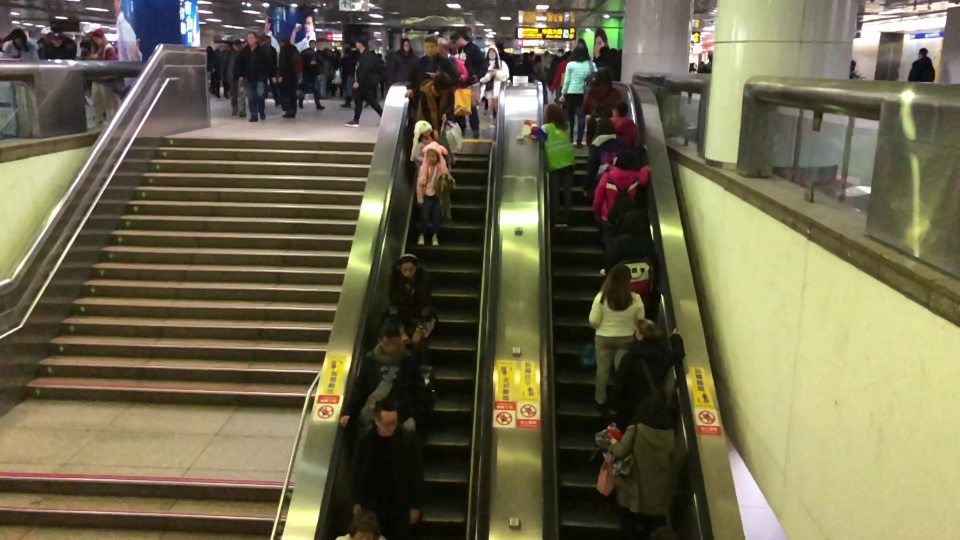person_head: (633, 393, 673, 431), (348, 508, 382, 540), (372, 398, 399, 438), (375, 318, 402, 355), (621, 208, 649, 234), (607, 264, 632, 291), (430, 70, 453, 98), (634, 318, 660, 341), (615, 148, 640, 171), (422, 140, 444, 166), (396, 253, 418, 279), (649, 525, 678, 540), (593, 66, 614, 86), (545, 103, 564, 124), (595, 116, 615, 135), (568, 46, 591, 62), (610, 100, 629, 118), (9, 26, 26, 45), (421, 37, 438, 56), (450, 30, 469, 47), (354, 30, 369, 50), (418, 120, 432, 139), (437, 37, 450, 56), (92, 29, 105, 45), (486, 45, 498, 61), (50, 33, 63, 47), (79, 39, 91, 54), (246, 31, 258, 46), (277, 35, 291, 47), (399, 39, 410, 52), (917, 46, 928, 59), (607, 48, 618, 60), (597, 46, 609, 57), (232, 39, 241, 53), (348, 36, 357, 49), (561, 50, 571, 61), (521, 52, 530, 63), (263, 35, 271, 47), (217, 40, 225, 51), (308, 39, 316, 50), (495, 43, 503, 54), (533, 55, 542, 63), (206, 45, 213, 55), (343, 46, 349, 55), (850, 59, 856, 68), (698, 60, 705, 67), (544, 50, 550, 56), (708, 53, 712, 62), (376, 52, 381, 59), (689, 63, 694, 68)
person_vbox: (608, 392, 690, 540), (337, 318, 431, 435), (351, 398, 424, 540), (609, 317, 685, 433), (588, 263, 645, 413), (592, 147, 651, 276), (523, 103, 576, 229), (604, 208, 661, 323), (389, 253, 438, 345), (450, 30, 487, 138), (343, 30, 382, 127), (559, 45, 595, 149), (413, 140, 448, 246), (582, 116, 627, 197), (404, 37, 457, 99), (581, 66, 622, 144), (85, 28, 118, 124), (408, 70, 454, 138), (237, 30, 269, 123), (479, 45, 510, 127), (297, 39, 325, 111), (278, 35, 299, 119), (333, 508, 387, 540), (226, 39, 246, 119), (384, 39, 418, 86), (339, 36, 359, 109), (437, 37, 468, 83), (608, 99, 637, 147), (411, 119, 439, 168), (261, 35, 279, 106), (3, 26, 39, 59), (549, 49, 571, 102), (907, 46, 935, 83), (213, 40, 230, 99), (40, 32, 75, 60), (77, 39, 91, 106), (532, 55, 549, 104), (495, 43, 516, 81), (339, 45, 349, 100), (517, 52, 533, 83), (605, 48, 620, 81), (541, 49, 553, 88), (206, 45, 215, 95), (375, 52, 384, 100), (686, 63, 696, 105), (593, 46, 609, 68), (700, 52, 713, 74), (849, 59, 862, 79), (696, 60, 705, 73)
